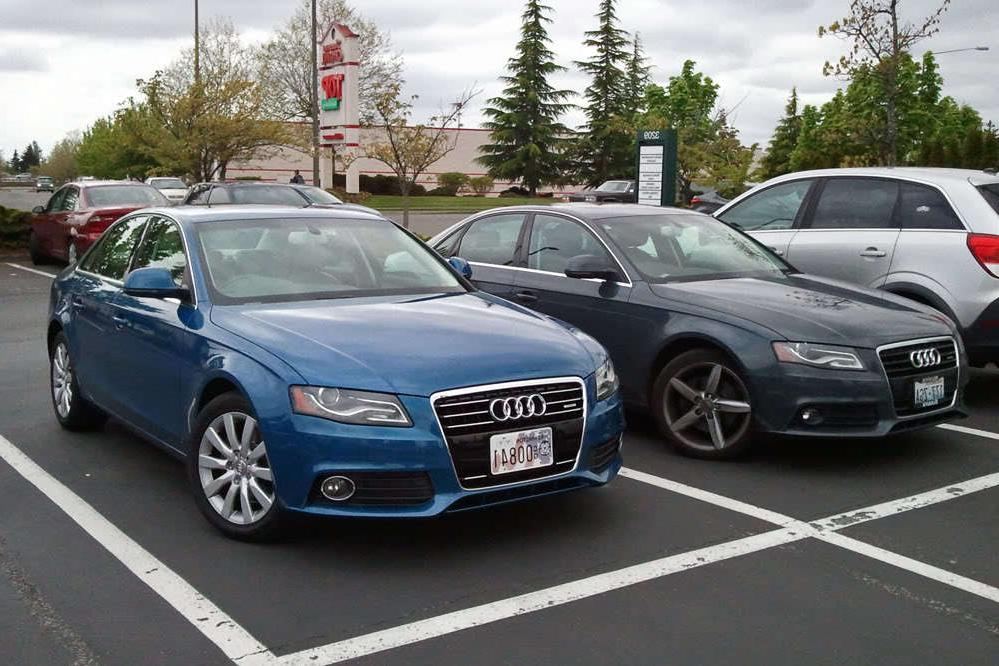Car: (34, 175, 643, 561), (410, 179, 981, 485), (671, 137, 999, 392)
